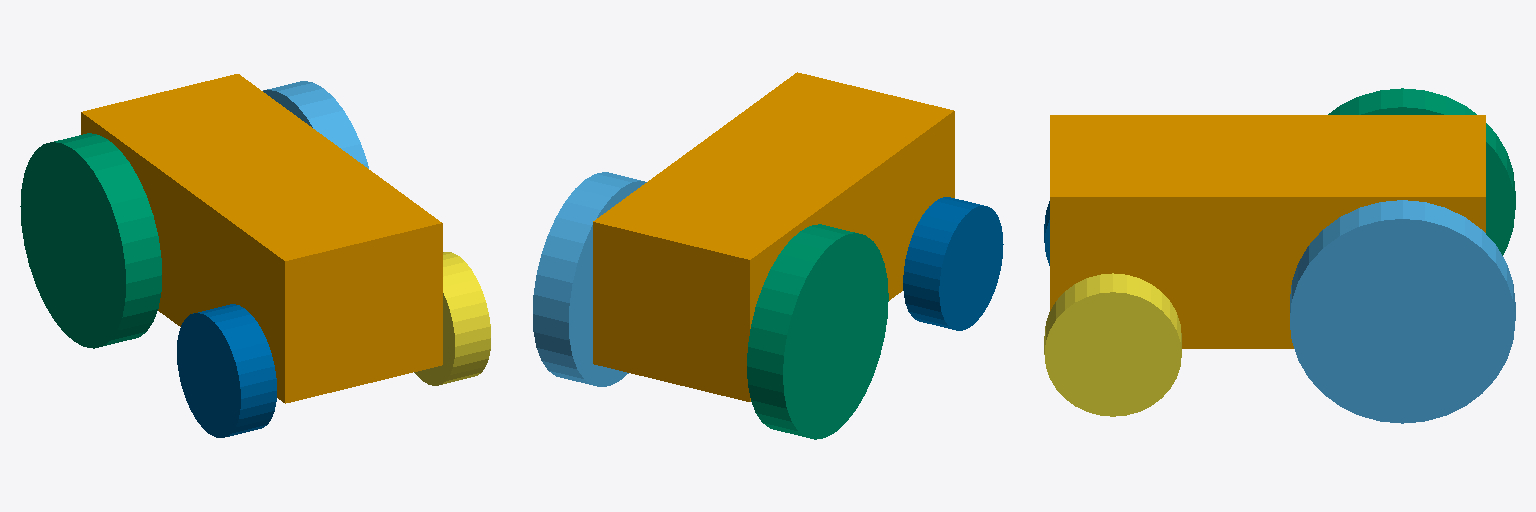
robot.urdf — test_robot:
<?xml version="1.0"?>
<robot name="test_robot">
    <link name="base_link">
        <visual>
            <geometry>
                <box size="0.370 0.832 0.320"/>
            </geometry>
            <origin rpy="0 0 0" xyz="0 0 0"/>
        </visual>
    </link>

    <link name="wheel_1">
        <visual>
            <geometry>
                <cylinder length=".085" radius="0.2155"/>
            </geometry>
            <origin rpy="0 1.57 0" xyz="0 0 -0"/>
        </visual>
    </link>

    <link name="wheel_2">
        <visual>
            <geometry>
                <cylinder length="0.085" radius="0.2155"/>
            </geometry>
            <origin rpy="0 1.57 0" xyz="-0 0 -0"/>
        </visual>
    </link>

    <link name="wheel_3">
        <visual>
            <geometry>
                <cylinder length="0.085" radius="0.131"/>
            </geometry>
            <origin rpy="0 1.57 0" xyz="-0.0 -0.0 -0.0"/>
        </visual>
    </link>

    <link name="wheel_4">
        <visual>
            <geometry>
                <cylinder length="0.085" radius="0.131"/>
            </geometry>
            <origin rpy="0 1.57 0" xyz="-0.0 -0.0 -0.0"/>
        </visual>
    </link>

    <joint name="joint_base_wheel1" type="continuous">
        <axis xyz="-1 0 0"/>
        <origin rpy="0 0 0" xyz="0.252 0.257 -0.050"/>
        <parent link="base_link"/>
        <child link="wheel_1"/>
    </joint>

    <joint name="joint_base_wheel2" type="continuous">
        <axis xyz="-1 0 0"/>
        <origin rpy="0 0 0" xyz="-0.252 0.257 -0.050"/>
        <parent link="base_link"/>
        <child link="wheel_2"/>
    </joint>

    <joint name="joint_base_wheel3" type="continuous">
        <axis xyz="-1 0 0"/>
        <origin rpy="0 0 0" xyz="0.252 -0.295 -0.120"/>
        <parent link="base_link"/>
        <child link="wheel_3"/>
    </joint>

    <joint name="joint_base_wheel4" type="continuous">
        <axis xyz="-1 0 0"/>
<!--        <origin rpy="0 0 0" xyz="-0.252 -0.295 -0.120"/>-->
        <origin rpy="0 0 0" xyz="-0.252 -0.295 -0.120"/>
        <parent link="base_link"/>
        <child link="wheel_4"/>
    </joint>
</robot>

--- Facts derived from the render (not from the file) ---
The picture shows the robot from 3 angles, left to right: view 1: azimuth 30°, elevation 25°; view 2: azimuth 150°, elevation 25°; view 3: azimuth 270°, elevation 25°; orthographic projection.
Model test_robot with 5 links and 4 joints (4 continuous), rooted at base_link, posed all joints at 0.
Visible links, largest first — view 1: base_link, wheel_2, wheel_4, wheel_3, wheel_1; view 2: base_link, wheel_2, wheel_1, wheel_4; view 3: base_link, wheel_1, wheel_3, wheel_2.
Link boxes in pixels (left/top/right/bottom): base_link: left=81, top=74, right=442, bottom=403; wheel_2: left=20, top=133, right=161, bottom=348; wheel_4: left=177, top=304, right=276, bottom=437; wheel_3: left=414, top=252, right=490, bottom=385; wheel_1: left=263, top=81, right=368, bottom=168; base_link: left=593, top=72, right=954, bottom=401; wheel_2: left=747, top=224, right=888, bottom=439; wheel_1: left=533, top=172, right=646, bottom=386; wheel_4: left=903, top=197, right=1003, bottom=330; base_link: left=1050, top=115, right=1485, bottom=348; wheel_1: left=1290, top=200, right=1515, bottom=423; wheel_3: left=1044, top=273, right=1181, bottom=416; wheel_2: left=1328, top=88, right=1515, bottom=255.
Bounding box of the posed robot: 0.5893 × 0.8985 × 0.4311 m (x, y, z).
Geometry: primitives only (box / cylinder / sphere), no mesh files.
